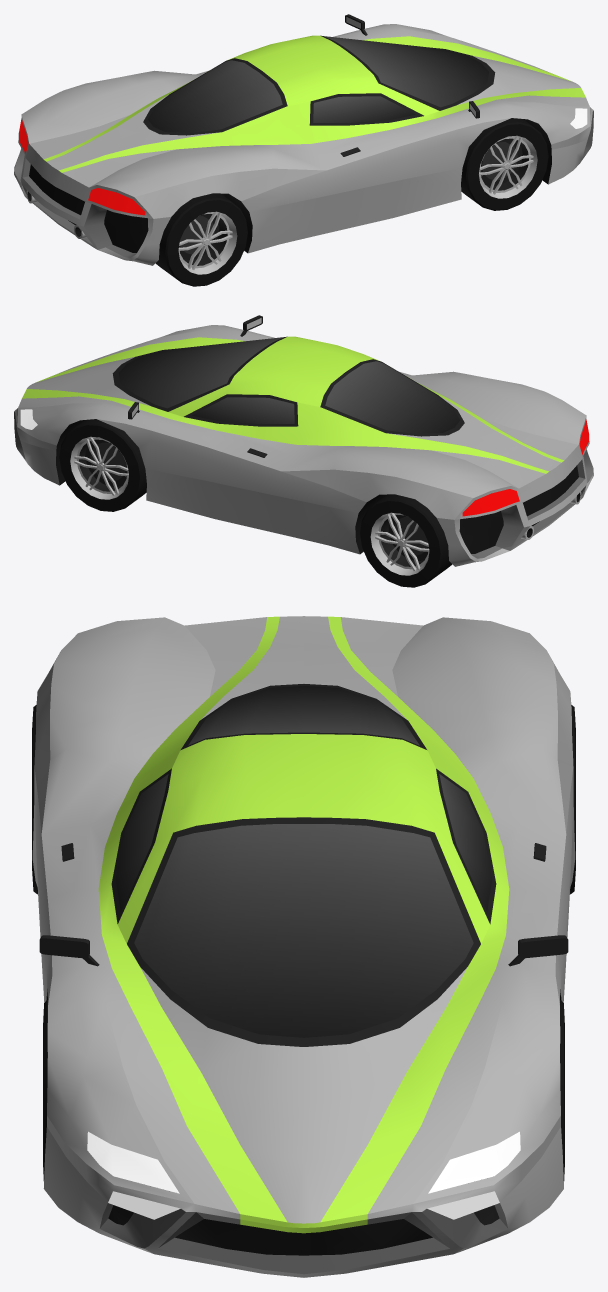
File: Car_196.glb
3 views of the same model, one above another, from view 1: azimuth 30°, elevation 25°; view 2: azimuth 150°, elevation 25°; view 3: azimuth 270°, elevation 25° (orthographic). The views are drawn at different scales.
Visible parts, largest first — view 1: Car_196, wheel_3_Car_196_Wheel_2R, wheel_1_Car_196_Wheel_1R; view 2: Car_196, wheel_2_Car_196_Wheel_2L, wheel_0_Car_196_Wheel_1L; view 3: Car_196.
Part boxes in pixels (box(x1,y1,x2,y2)): Car_196: box(14, 14, 593, 265); wheel_3_Car_196_Wheel_2R: box(155, 193, 247, 286); wheel_1_Car_196_Wheel_1R: box(461, 118, 548, 210); Car_196: box(14, 315, 593, 566); wheel_2_Car_196_Wheel_2L: box(360, 494, 452, 587); wheel_0_Car_196_Wheel_1L: box(59, 419, 146, 511); Car_196: box(32, 616, 575, 1277).
Bounding box in the file's own units: 4.54 × 1.13 × 2.
3 materials, 3 textured.
